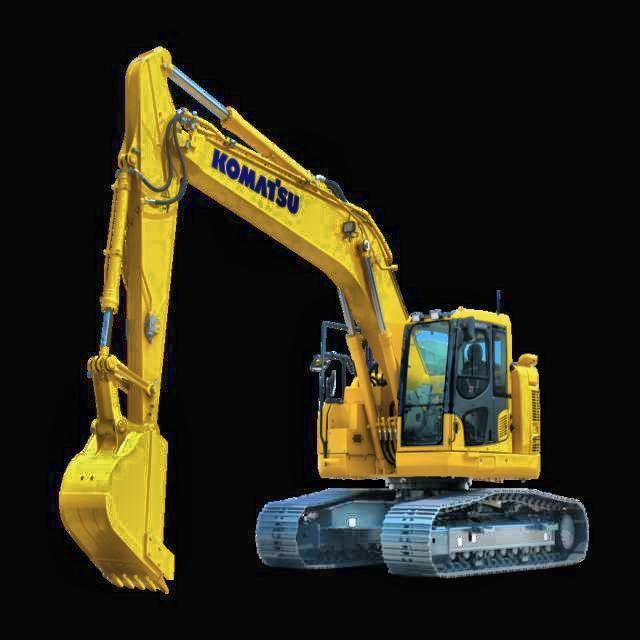excavator: (49, 36, 596, 590)
